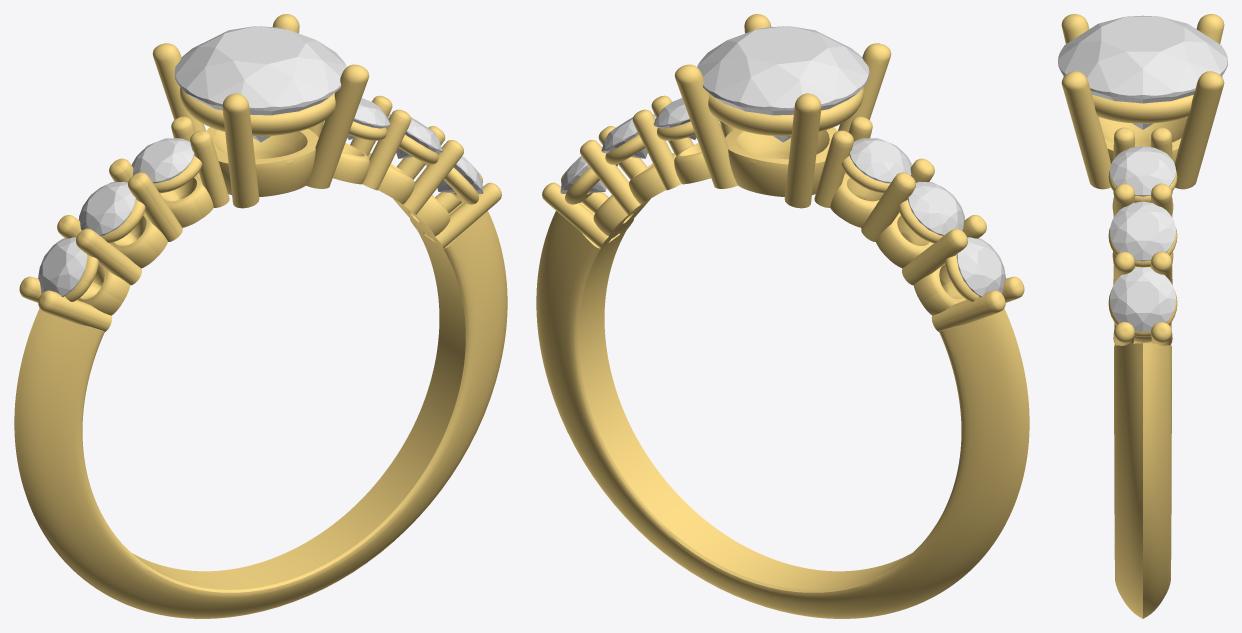
File: diamond-round-yellowgold-4prong-knifeedge-3stone.glb
The picture shows the model from 3 angles, left to right: view 1: azimuth 30°, elevation 25°; view 2: azimuth 150°, elevation 25°; view 3: azimuth 270°, elevation 25°; orthographic projection.
Parts seen in each view (by area): view 1: metal, stone, side.001, side.002, side, side.004, side.003, side.005; view 2: metal, stone, side.001, side.002, side, side.004, side.003, side.005; view 3: metal, stone, side.005, side.004, side.003.
Boxes of the visible parts, x1,y1,x2,y2 form: metal: (14, 14, 507, 618); stone: (174, 26, 346, 142); side.001: (79, 181, 135, 235); side.002: (38, 237, 87, 296); side: (131, 138, 194, 183); side.004: (387, 114, 442, 158); side.003: (347, 98, 390, 139); side.005: (437, 147, 483, 193); metal: (536, 14, 1029, 618); stone: (697, 26, 869, 142); side.001: (908, 181, 964, 235); side.002: (956, 237, 1005, 296); side: (849, 138, 912, 183); side.004: (601, 114, 656, 158); side.003: (653, 98, 696, 139); side.005: (560, 147, 606, 193); metal: (1061, 14, 1224, 618); stone: (1058, 15, 1227, 129); side.005: (1110, 267, 1175, 331); side.004: (1110, 201, 1175, 261); side.003: (1110, 146, 1175, 196).
Size of the model in its own units: 21.24 by 23.31 by 6.44.
